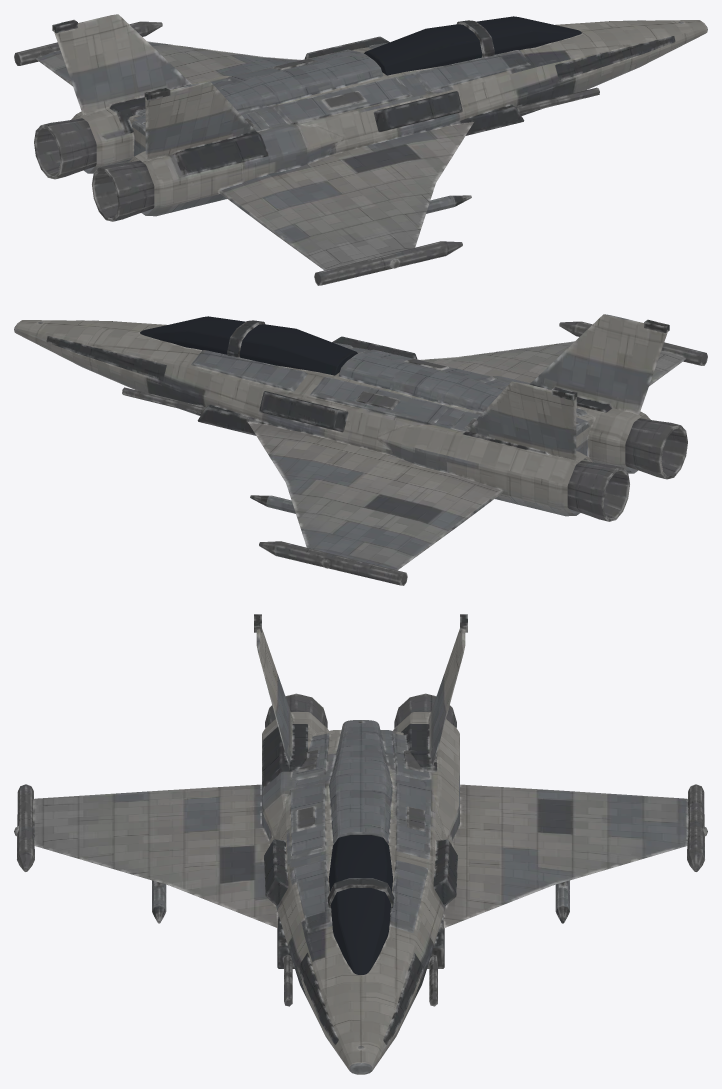
The model's file is fighter.glb.
3 renders of one model, top to bottom at view 1: azimuth 30°, elevation 25°; view 2: azimuth 150°, elevation 25°; view 3: azimuth 270°, elevation 25°, orthographic. The views are drawn at different scales.
Visible parts, largest first — view 1: fighter_hull; view 2: fighter_hull; view 3: fighter_hull.
Boxes of the visible parts, x1=… form: fighter_hull: x1=14, y1=14, x2=707, y2=285; fighter_hull: x1=14, y1=314, x2=707, y2=585; fighter_hull: x1=14, y1=614, x2=707, y2=1074.
Size of the model in its own units: 4 by 0.8825 by 3.44.
Materials: 1 (1 with a texture image).
